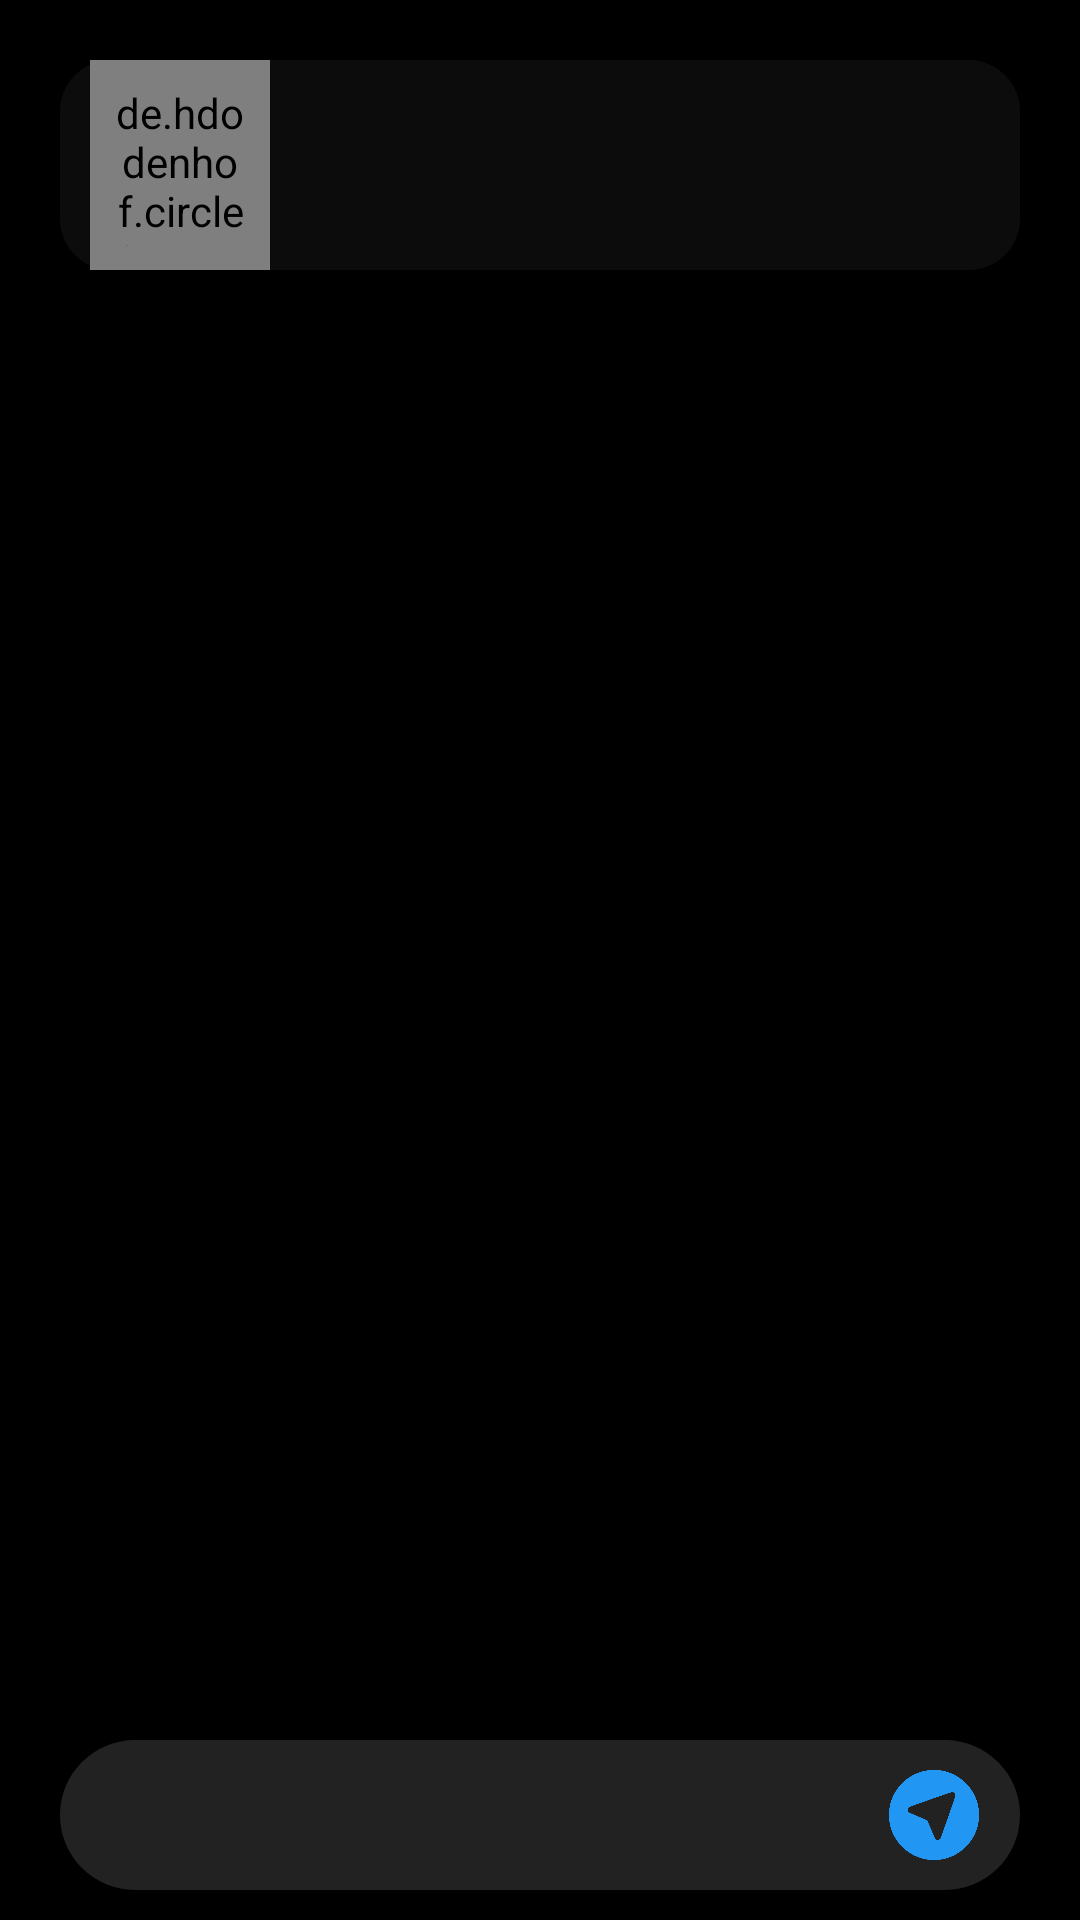

Point at icon controls on the screen. Image size 1080×1920, points as (x=x, y=y).
send: (x=934, y=1815)
